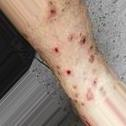Fleas: (77, 35, 89, 47), (48, 5, 58, 19), (86, 89, 93, 100), (67, 33, 74, 42), (53, 46, 59, 55), (64, 69, 73, 75), (74, 93, 78, 103), (89, 54, 94, 62), (91, 79, 97, 85), (80, 102, 84, 108), (71, 86, 76, 90)
